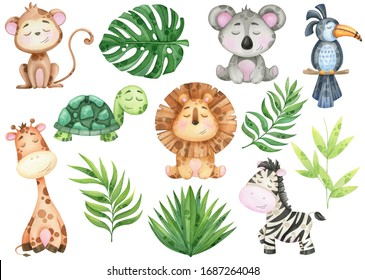animal: (3, 114, 78, 264), (3, 1, 99, 96), (234, 162, 326, 257), (159, 83, 232, 185), (294, 1, 357, 112), (208, 1, 284, 83), (49, 89, 151, 145)
